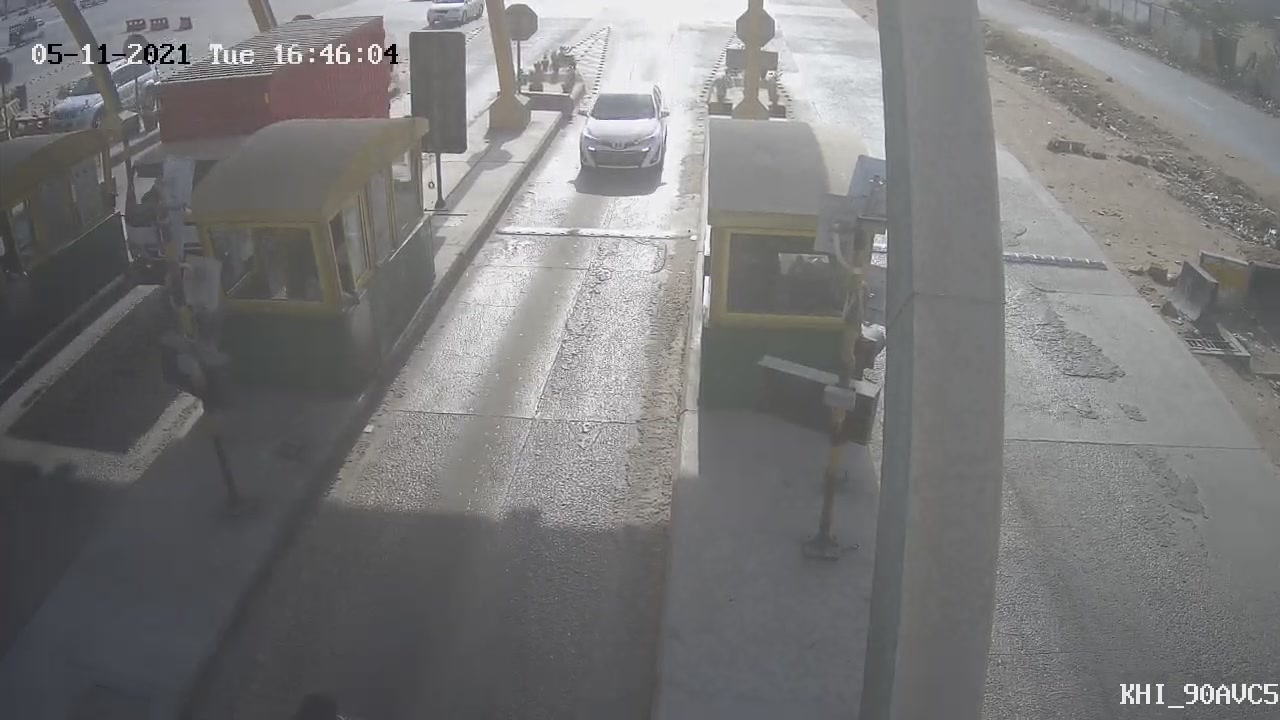F1: (565, 70, 677, 195)
